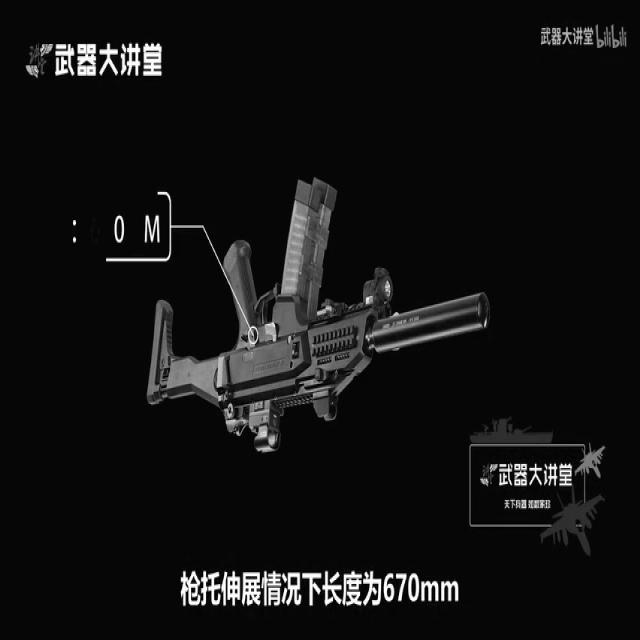Sub-machine-gun: (138, 168, 534, 454)
